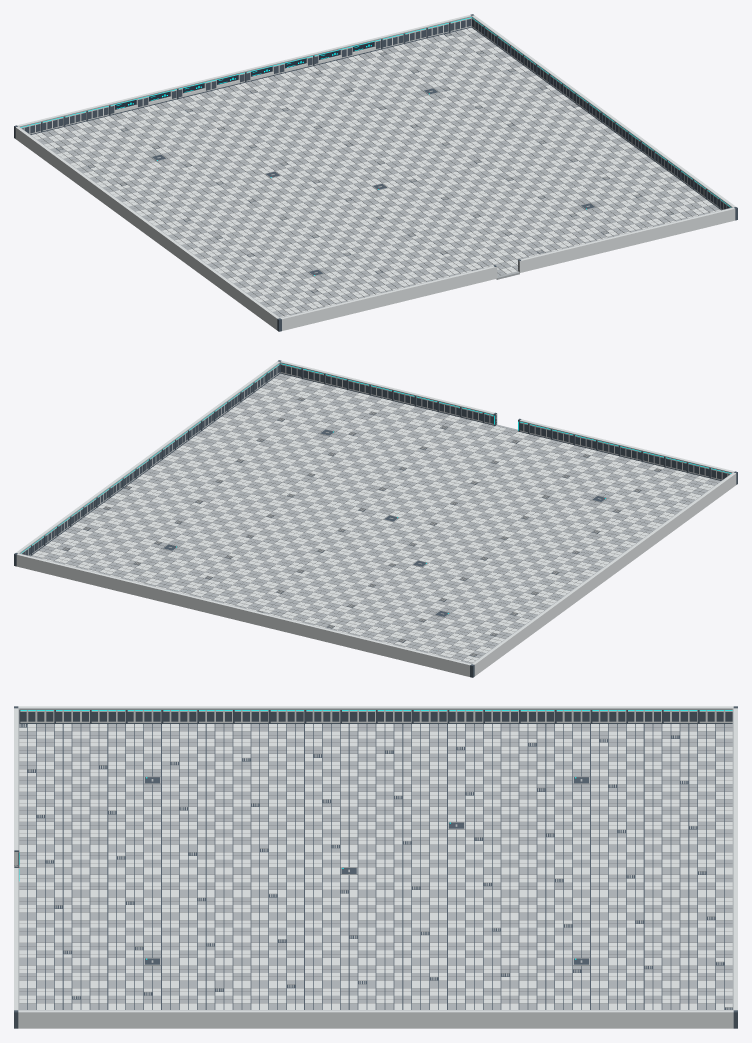
Rendered from Nave piso.glb.
3 views of the same model, one above another, from view 1: azimuth 30°, elevation 25°; view 2: azimuth 150°, elevation 25°; view 3: azimuth 270°, elevation 25° (orthographic). The views are drawn at different scales.
Parts seen in each view (by area): view 1: Suelo_Paneles_Aluminio, Suelo_Paneles_Blanco, Paredes_Blancas, Paredes_Acentos_Titanio, Paredes_Rieles_Aluminio, Suelo_Rejillas_Puertos_Aluminio, Luces_Cian, Suelo_Base_Titanio, Pantallas_Control; view 2: Suelo_Paneles_Aluminio, Suelo_Paneles_Blanco, Paredes_Blancas, Paredes_Acentos_Titanio, Paredes_Rieles_Aluminio, Suelo_Rejillas_Puertos_Aluminio, Suelo_Base_Titanio, Luces_Cian; view 3: Suelo_Paneles_Aluminio, Suelo_Paneles_Blanco, Suelo_Base_Titanio, Paredes_Blancas, Paredes_Acentos_Titanio, Paredes_Rieles_Aluminio, Suelo_Rejillas_Puertos_Aluminio, Luces_Cian.
Boxes of the visible parts, x1=… form: Suelo_Paneles_Aluminio: x1=37, y1=30, x2=719, y2=316; Suelo_Paneles_Blanco: x1=31, y1=27, x2=720, y2=317; Paredes_Blancas: x1=15, y1=15, x2=735, y2=330; Paredes_Acentos_Titanio: x1=14, y1=14, x2=737, y2=331; Paredes_Rieles_Aluminio: x1=18, y1=16, x2=732, y2=317; Suelo_Rejillas_Puertos_Aluminio: x1=56, y1=33, x2=672, y2=292; Luces_Cian: x1=20, y1=17, x2=730, y2=275; Suelo_Base_Titanio: x1=55, y1=34, x2=673, y2=292; Pantallas_Control: x1=115, y1=42, x2=374, y2=109; Suelo_Paneles_Aluminio: x1=31, y1=373, x2=720, y2=663; Suelo_Paneles_Blanco: x1=32, y1=376, x2=714, y2=662; Paredes_Blancas: x1=16, y1=361, x2=736, y2=676; Paredes_Acentos_Titanio: x1=14, y1=360, x2=737, y2=677; Paredes_Rieles_Aluminio: x1=19, y1=362, x2=733, y2=663; Suelo_Rejillas_Puertos_Aluminio: x1=62, y1=397, x2=660, y2=656; Suelo_Base_Titanio: x1=62, y1=398, x2=661, y2=656; Luces_Cian: x1=21, y1=363, x2=731, y2=613; Suelo_Paneles_Aluminio: x1=19, y1=724, x2=732, y2=1009; Suelo_Paneles_Blanco: x1=19, y1=724, x2=732, y2=1009; Suelo_Base_Titanio: x1=19, y1=724, x2=732, y2=1009; Paredes_Blancas: x1=14, y1=706, x2=737, y2=1028; Paredes_Acentos_Titanio: x1=14, y1=706, x2=737, y2=1028; Paredes_Rieles_Aluminio: x1=18, y1=708, x2=733, y2=1010; Suelo_Rejillas_Puertos_Aluminio: x1=19, y1=724, x2=731, y2=1009; Luces_Cian: x1=19, y1=710, x2=732, y2=959.
Size of the model in its own units: 81 by 2.25 by 81.
